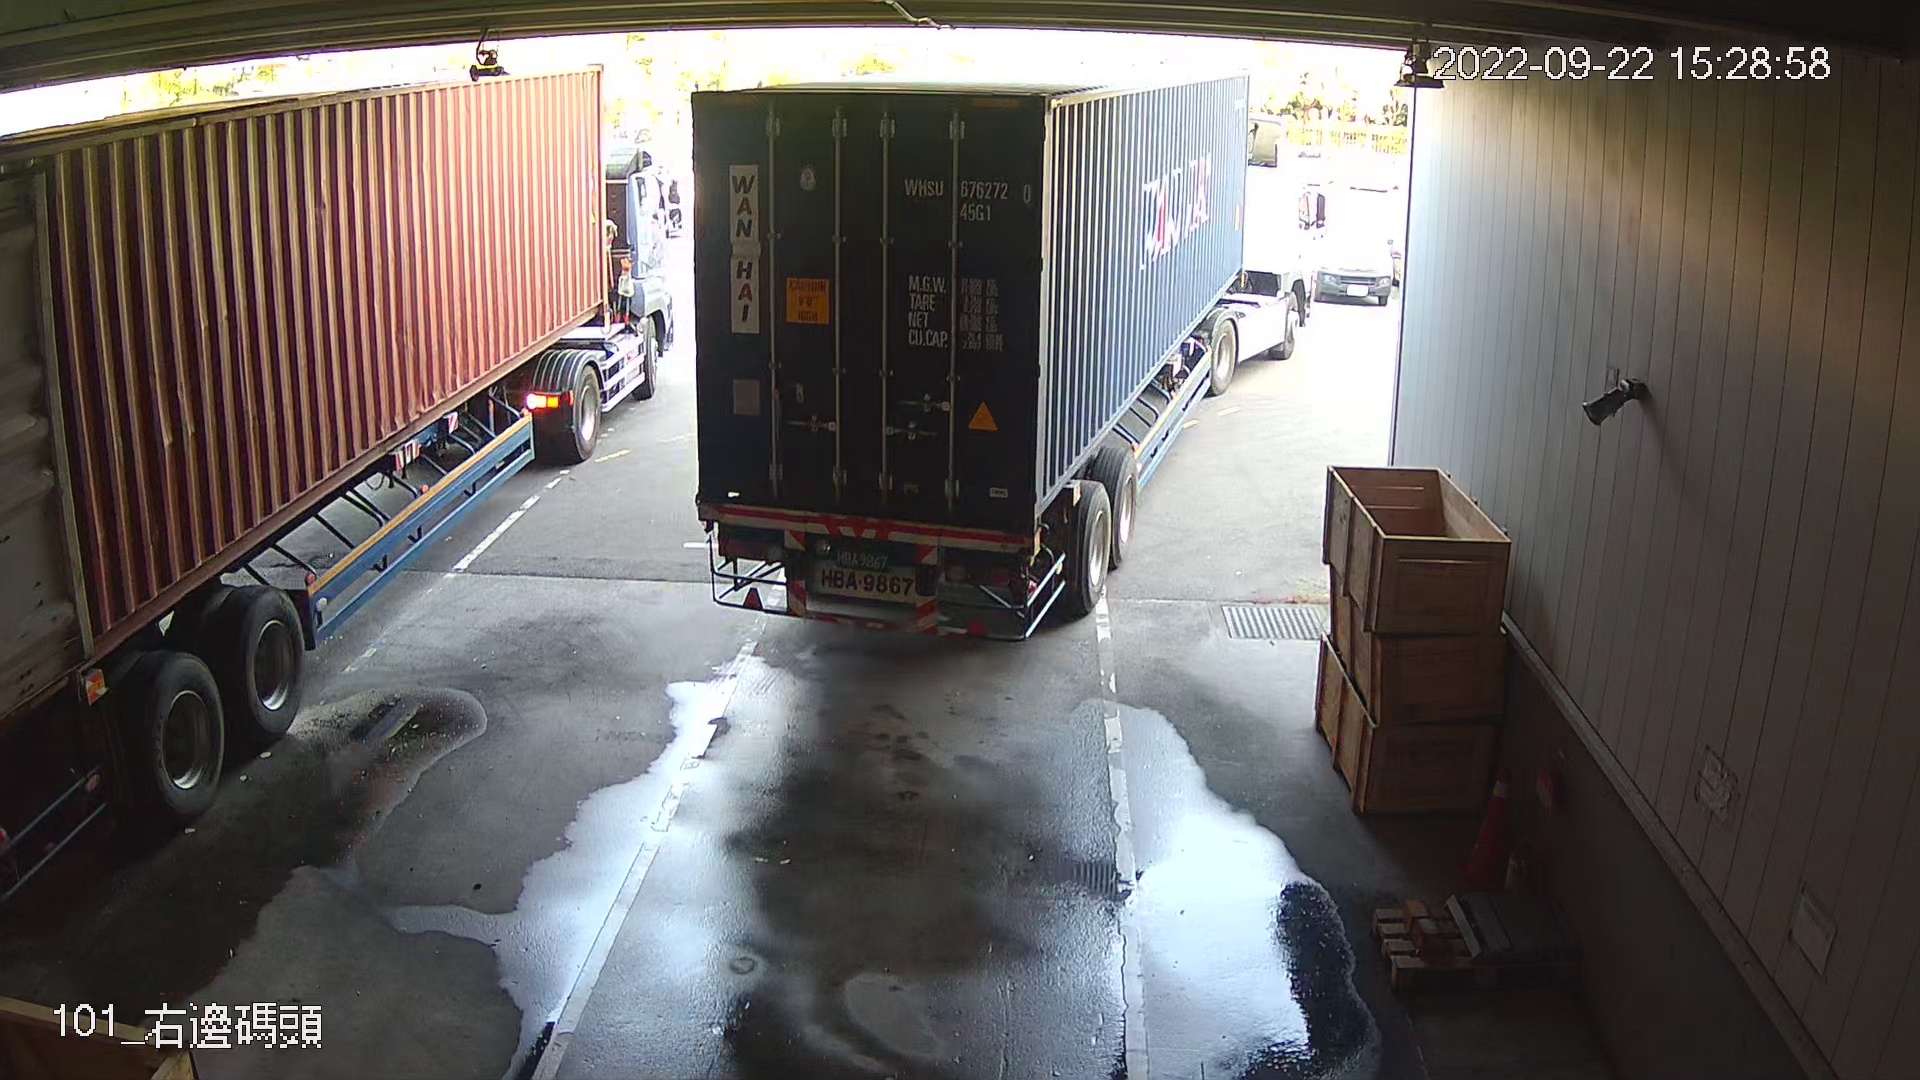container: (897, 166, 1036, 229)
